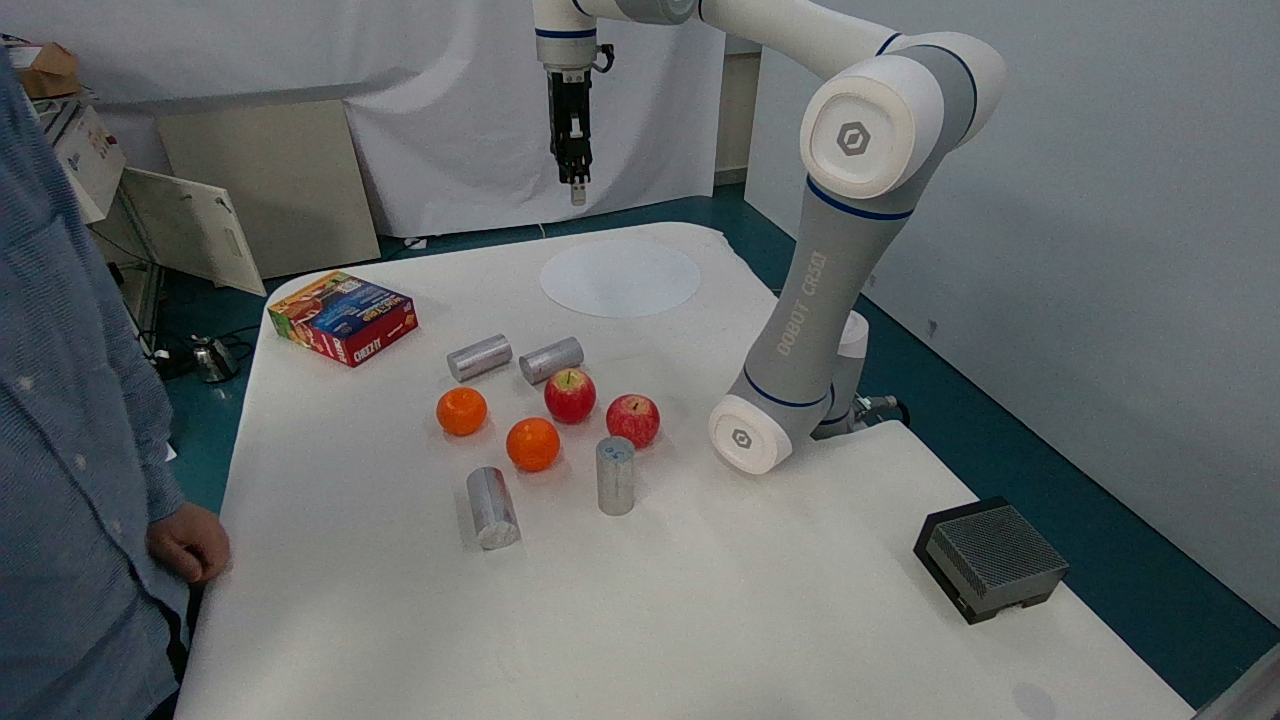apple: (498, 408, 568, 480), (425, 376, 488, 437)
metal rod: (592, 381, 664, 448), (537, 358, 602, 426)
orange: (456, 456, 529, 554), (589, 431, 650, 526), (508, 328, 600, 382), (438, 324, 519, 381)
